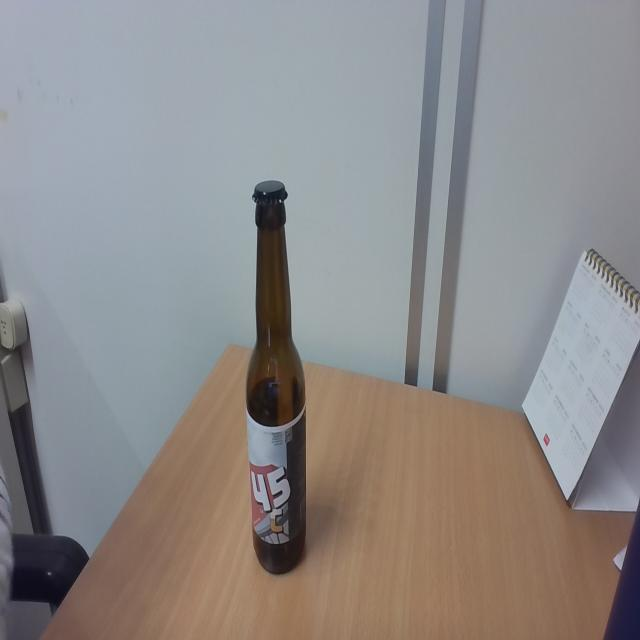Bottle: (244, 179, 309, 578)
Cap: (248, 178, 290, 208)
Label: (245, 413, 309, 545)
